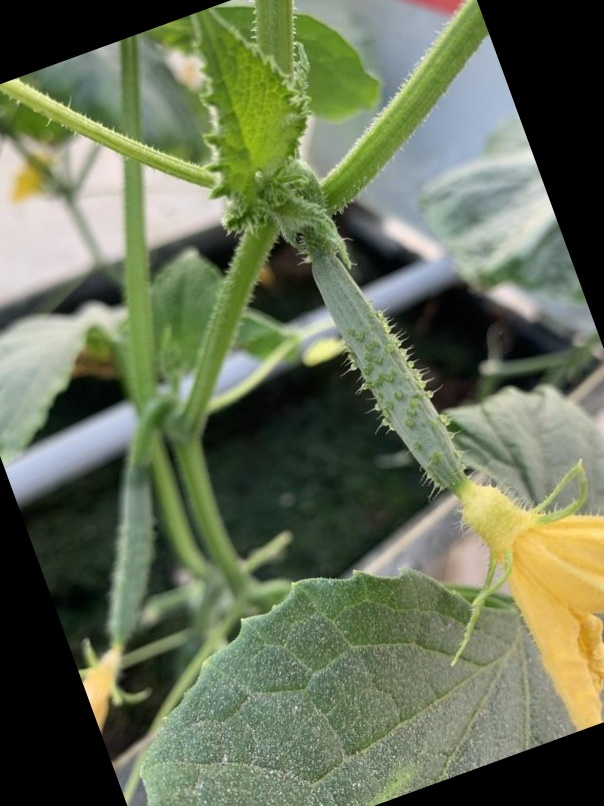bear: (312, 255, 572, 599)
